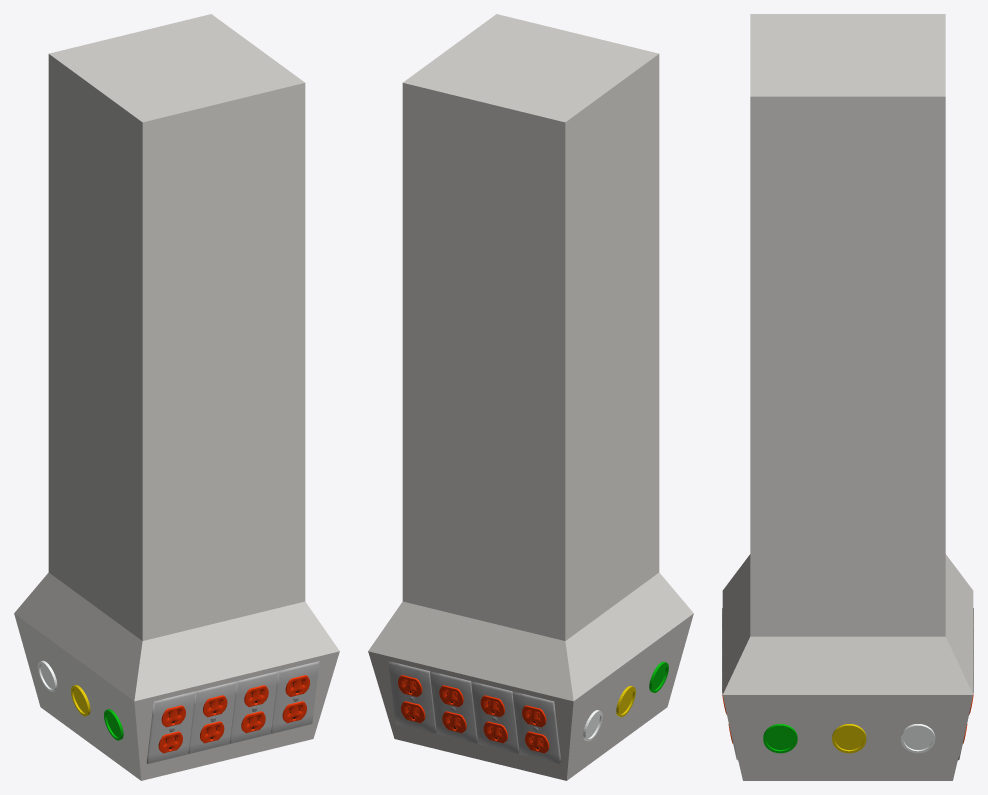
3 views of the same model, side by side, from view 1: azimuth 30°, elevation 25°; view 2: azimuth 150°, elevation 25°; view 3: azimuth 270°, elevation 25° (orthographic). The views are drawn at different scales.
Visible parts, largest first — view 1: ES-26; view 2: ES-26; view 3: ES-26.
Boxes of the visible parts, x1=… form: ES-26: x1=14, y1=14, x2=339, y2=780; ES-26: x1=368, y1=14, x2=693, y2=780; ES-26: x1=722, y1=14, x2=973, y2=780.
Size of the model in its own units: 35.55 by 109 by 36.24.
